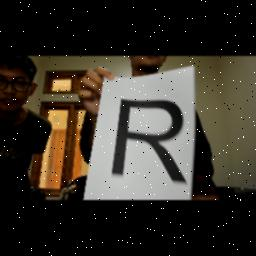r: (108, 95, 192, 189)
